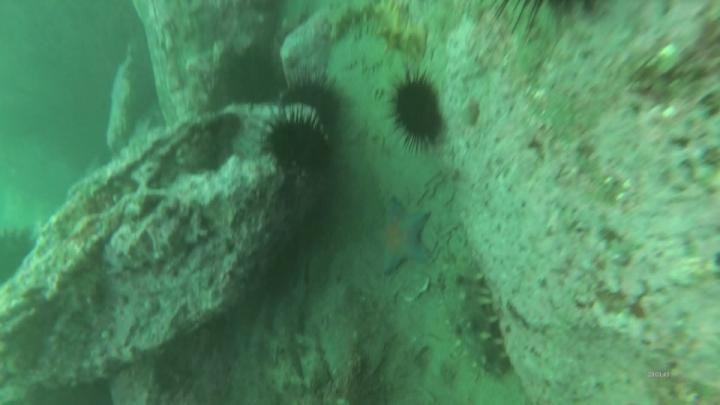echinus: (269, 121, 330, 169), (396, 81, 443, 139), (229, 61, 281, 104), (284, 78, 342, 116)
holothurian: (443, 266, 511, 378)
starfish: (376, 203, 430, 272)
